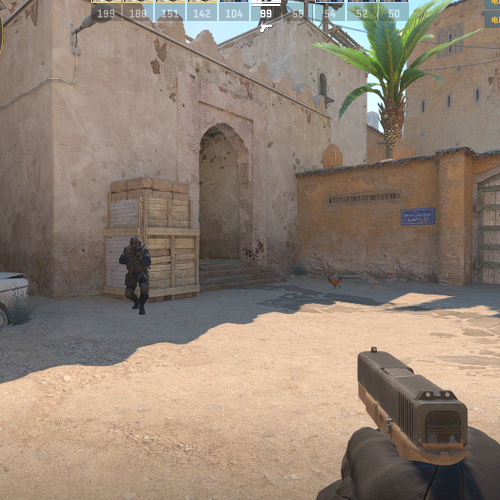chicken: (327, 276, 343, 290)
ct_body: (119, 236, 152, 316)
ct_head: (129, 237, 142, 252)
